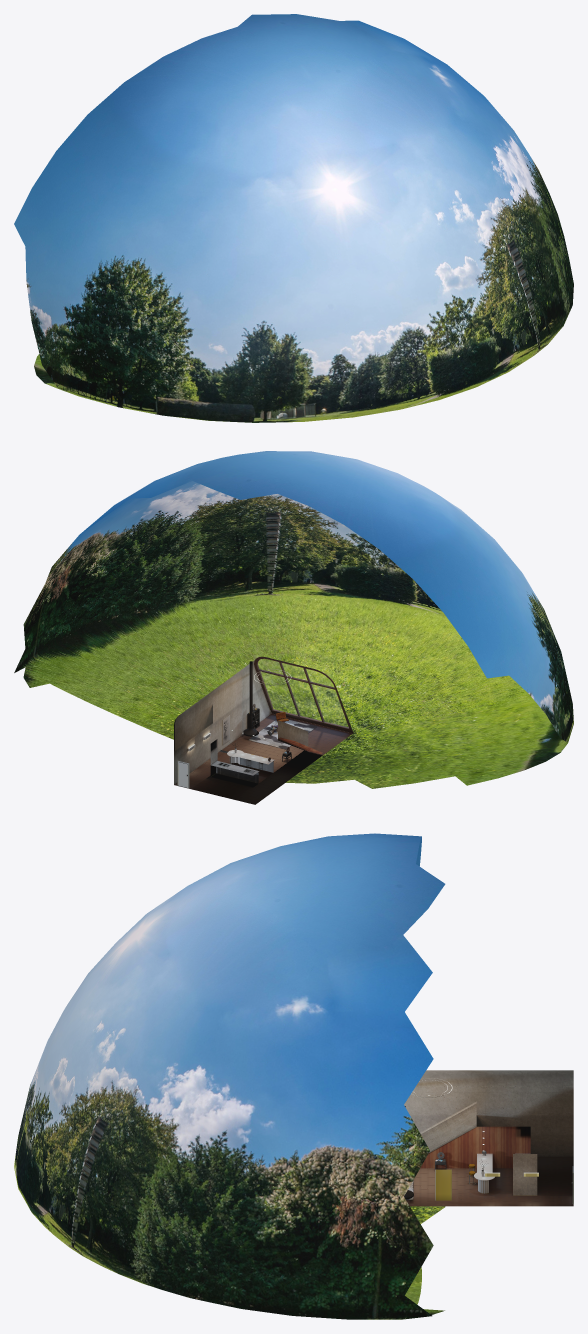
File: brutalist_loft.glb
3 views of the same model, one above another, from view 1: azimuth 30°, elevation 25°; view 2: azimuth 150°, elevation 25°; view 3: azimuth 270°, elevation 25° (orthographic). The views are drawn at different scales.
Parts seen in each view (by area): view 1: Skybox_17; view 2: Skybox_17, Room.001_13, Floor_6, WindowFrame_4, ChamferBox080_8, Table_1, Tresen_2, DoorPic_19, Glass_5; view 3: Skybox_17, Room.001_13, Floor_6, Wood_0, DoorPic_19.
Boxes of the visible parts, <box> form: Skybox_17: <box>14,14,573,422</box>; Skybox_17: <box>14,451,573,788</box>; Room.001_13: <box>174,659,308,784</box>; Floor_6: <box>174,713,352,804</box>; WindowFrame_4: <box>254,656,353,733</box>; ChamferBox080_8: <box>248,719,316,749</box>; Table_1: <box>211,750,274,775</box>; Tresen_2: <box>216,757,273,783</box>; DoorPic_19: <box>177,715,229,788</box>; Glass_5: <box>254,656,343,724</box>; Skybox_17: <box>14,833,445,1319</box>; Room.001_13: <box>404,1070,573,1195</box>; Floor_6: <box>406,1156,573,1206</box>; Wood_0: <box>420,1126,530,1168</box>; DoorPic_19: <box>435,1166,573,1203</box>.
Size of the model in its own units: 43.38 by 24.42 by 34.25.
Materials: 22 (20 with a texture image).
